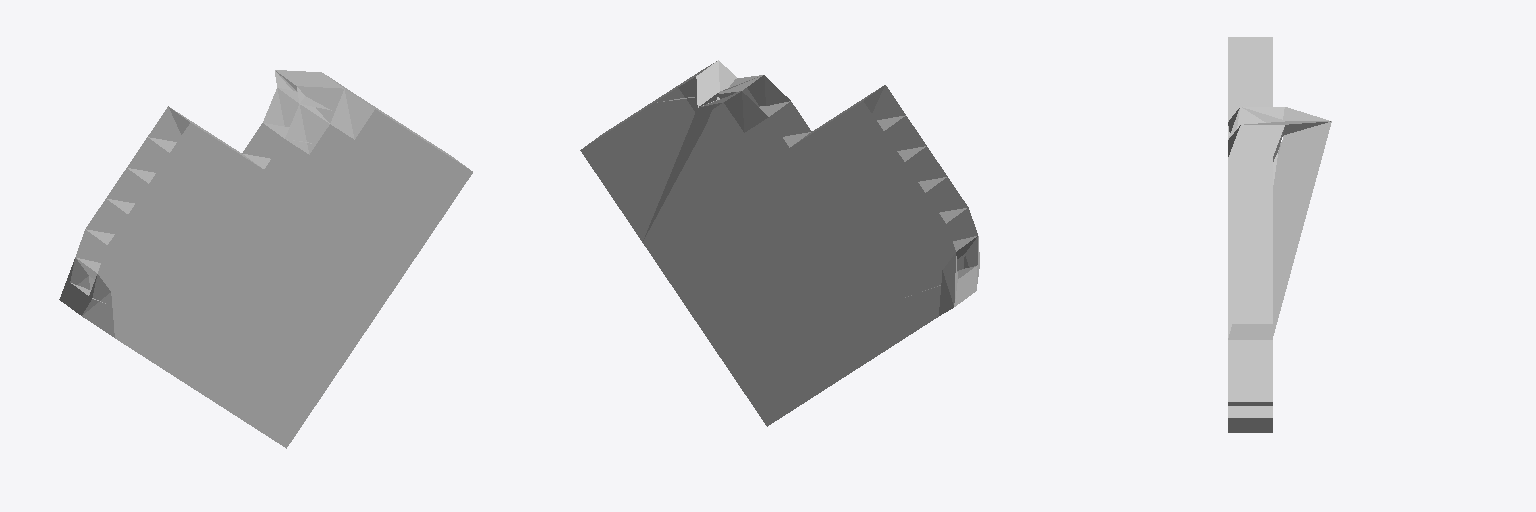
The model's file is 3d_Feralas - Twin Water 02.wlw.obj.
The picture shows the model from 3 angles: view 1: azimuth 30°, elevation 25°; view 2: azimuth 150°, elevation 25°; view 3: azimuth 270°, elevation 25°; orthographic projection.
Bounding box in the file's own units: 99.34 × 86.62 × 23.35.